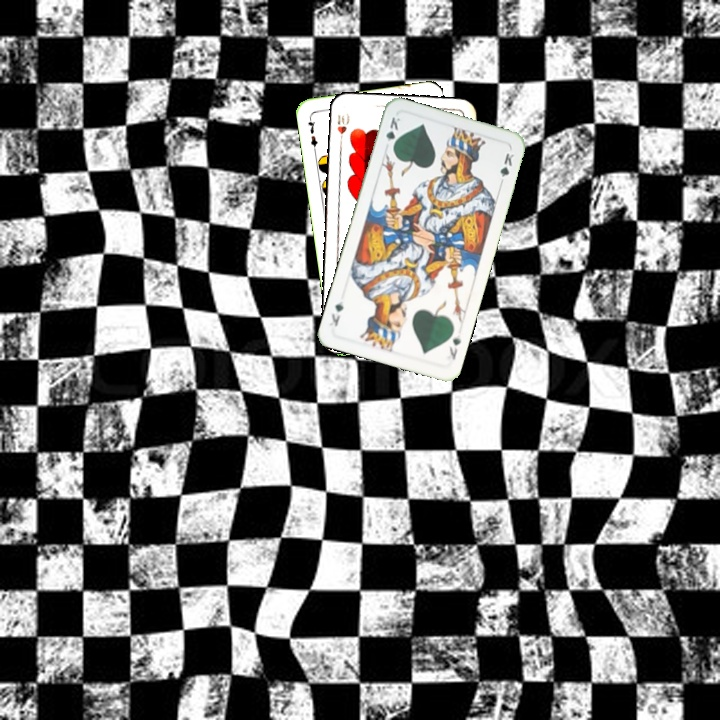E7: (304, 113, 320, 153)
GK: (381, 113, 403, 153), (443, 329, 463, 362)
H10: (333, 110, 352, 148)
